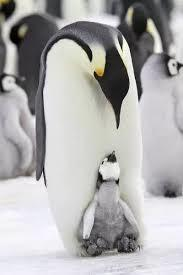emporer: (27, 14, 167, 259)
